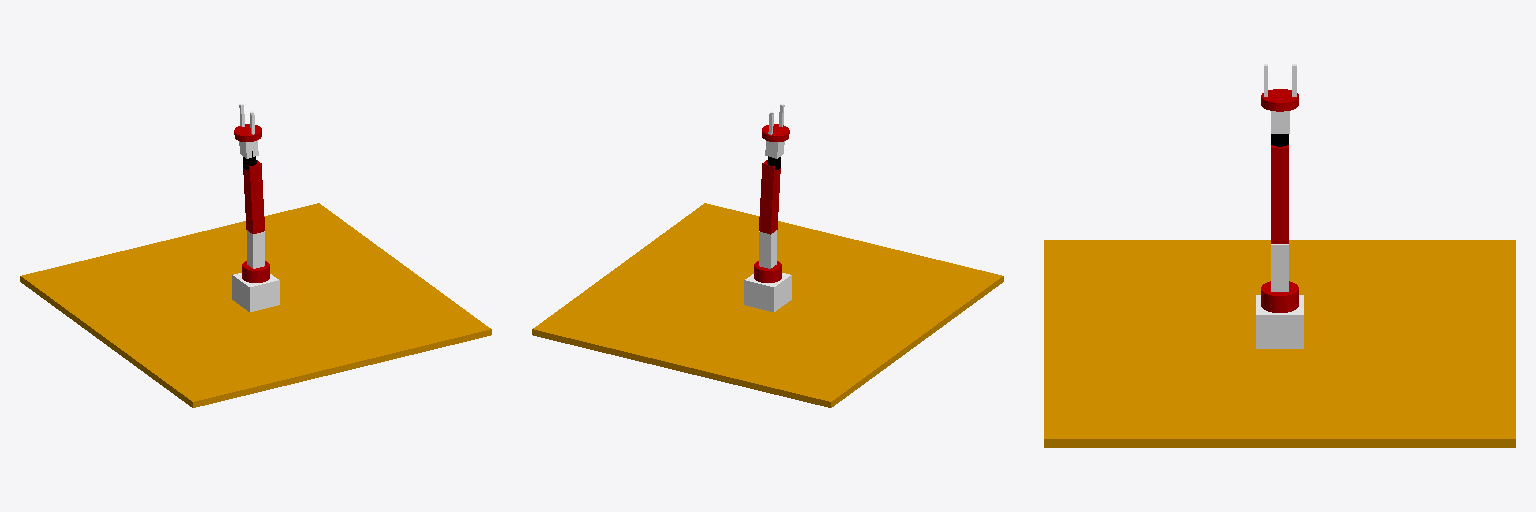
The robot description file, URDF, robot "dodo_arm":
<?xml version="1.0" encoding="utf-8"?>
<!-- =================================================================================== -->
<!-- |    This document was autogenerated by xacro from dodo_arm.xacro                 | -->
<!-- |    EDITING THIS FILE BY HAND IS NOT RECOMMENDED                                 | -->
<!-- =================================================================================== -->
<robot name="dodo_arm">
  <!-- Include materials -->
  <material name="Black">
    <color rgba="0.0 0.0 0.0 1.0"/>
  </material>
  <material name="Red">
    <color rgba="0.8 0.0 0.0 1.0"/>
  </material>
  <material name="White">
    <color rgba="1.0 1.0 1.0 1.0"/>
  </material>
  <!-- BOTTOM FIXED LINK 
This link is the base of the arm in which arm is placed 

-->
  <!-- ///////////////////////////////////////////////////////////////////////////////////////////////////////////////////// -->
  <joint name="bottom_joint" type="fixed">
    <origin rpy="0 0 0" xyz="0 0 0"/>
    <parent link="base_link"/>
    <child link="bottom_link"/>
  </joint>
  <link name="bottom_link">
    <visual>
      <origin rpy="0 0 0" xyz=" 0 0 -0.04"/>
      <geometry>
        <box size="1 1 0.02"/>
      </geometry>
      <material name="Brown"/>
    </visual>
    <collision>
      <origin rpy="0 0 0" xyz=" 0 0 -0.04"/>
      <geometry>
        <box size="1 1 0.02"/>
      </geometry>
    </collision>
    &gt;

  
  </link>
  <gazebo reference="bottom_link">
    <material>Gazebo/White</material>
  </gazebo>
  <!-- ///////////////////////////////////////////////////////////////////////////////////////////////////////////////////// -->
  <!-- BASE LINK -->
  <link name="base_link">
    <visual>
      <origin rpy="1.570795 0 0" xyz="0 0 0"/>
      <!-- rotate PI/2 -->
      <geometry>
        <box size="0.1 0.1 0.1"/>
      </geometry>
      <material name="White"/>
    </visual>
    <collision>
      <origin rpy="1.570795 0 0" xyz="0 0 0"/>
      <!-- rotate PI/2 -->
      <geometry>
        <box size="0.1 0.1 0.1"/>
      </geometry>
    </collision>
    &gt;
	
    <inertial>
      <mass value="1"/>
      <inertia ixx="1.0" ixy="0.0" ixz="0.0" iyy="0.5" iyz="0.0" izz="1.0"/>
    </inertial>
  </link>
  <gazebo reference="base_link">
    <material>Gazebo/White</material>
  </gazebo>
  <joint name="shoulder_pan_joint" type="revolute">
    <parent link="base_link"/>
    <child link="shoulder_pan_link"/>
    <origin rpy="0 1.570795 0.0" xyz="0 0 0.05"/>
    <axis xyz="-1 0 0"/>
    <limit effort="300" lower="-2.61799387799" upper="1.98394848567" velocity="1"/>
    <dynamics damping="50" friction="1"/>
  </joint>
  <!-- ///////////////////////////////////////////////////////////////////////////////////////////////////////////////////// -->
  <!-- SHOULDER PAN LINK -->
  <link name="shoulder_pan_link">
    <visual>
      <origin rpy="0 1.570795 0" xyz="0 0 0"/>
      <geometry>
        <cylinder length="0.08" radius="0.04"/>
      </geometry>
      <material name="Red"/>
    </visual>
    <collision>
      <origin rpy="0 1.570795 0" xyz="0 0 0"/>
      <geometry>
        <cylinder length="0.08" radius="0.04"/>
      </geometry>
    </collision>
    <inertial>
      <mass value="1"/>
      <inertia ixx="1.0" ixy="0.0" ixz="0.0" iyy="0.5" iyz="0.0" izz="1.0"/>
    </inertial>
  </link>
  <gazebo reference="shoulder_pan_link">
    <material>Gazebo/Red</material>
  </gazebo>
  <joint name="shoulder_pitch_joint" type="revolute">
    <parent link="shoulder_pan_link"/>
    <child link="shoulder_pitch_link"/>
    <origin rpy="-1.570795 0 1.570795" xyz="-0.041 0.0021 0.0"/>
    <axis xyz="1 0 0"/>
    <limit effort="300" lower="-1.19962513147" upper="1.89994105047" velocity="1"/>
    <dynamics damping="50" friction="1"/>
  </joint>
  <!-- ///////////////////////////////////////////////////////////////////////////////////////////////////////////////////// -->
  <!-- SHOULDER PITCH LINK -->
  <link name="shoulder_pitch_link">
    <visual>
      <origin rpy="0 1.570795 0" xyz="-0.002 0 0.04"/>
      <geometry>
        <box size="0.14 0.04 0.04"/>
      </geometry>
      <material name="White"/>
    </visual>
    <collision>
      <origin rpy="0 1.570795 0" xyz="-0.002 0 0.04"/>
      <geometry>
        <box size="0.14 0.04 0.04"/>
      </geometry>
    </collision>
    <inertial>
      <mass value="1"/>
      <inertia ixx="1.0" ixy="0.0" ixz="0.0" iyy="0.5" iyz="0.0" izz="1.0"/>
    </inertial>
  </link>
  <gazebo reference="shoulder_pitch_link">
    <material>Gazebo/White</material>
  </gazebo>
  <joint name="elbow_pitch_joint" type="revolute">
    <parent link="shoulder_pitch_link"/>
    <child link="elbow_pitch_link"/>
    <origin rpy="0.055 3.14159 0" xyz="-0.002 0 0.10"/>
    <axis xyz="1 0 0"/>
    <limit effort="300" lower="-1.5953400194" upper="1.93281579274" velocity="1"/>
    <dynamics damping="50" friction="1"/>
  </joint>
  <!-- ///////////////////////////////////////////////////////////////////////////////////////////////////////////////////// -->
  <!-- ELBOW PITCH LINK -->
  <link name="elbow_pitch_link">
    <visual>
      <origin rpy="0 1.570795 0" xyz="0 0 -0.12"/>
      <geometry>
        <box size="0.22 0.04 0.04"/>
      </geometry>
      <material name="Red"/>
    </visual>
    <collision>
      <origin rpy="0 1.570795 0" xyz="0 0 -0.12"/>
      <geometry>
        <box size="0.22 0.04 0.04"/>
      </geometry>
    </collision>
    <inertial>
      <mass value="1"/>
      <inertia ixx="1.0" ixy="0.0" ixz="0.0" iyy="0.5" iyz="0.0" izz="1.0"/>
    </inertial>
  </link>
  <gazebo reference="elbow_pitch_link">
    <material>Gazebo/Red</material>
  </gazebo>
  <joint name="wrist_roll_joint" type="revolute">
    <parent link="elbow_pitch_link"/>
    <child link="wrist_roll_link"/>
    <origin rpy="0 1.570795 3.14159" xyz="0.0 0.0081 -.248"/>
    <axis xyz="1 0 0"/>
    <limit effort="300" lower="-2.61799387799" upper="2.6128806087" velocity="1"/>
    <dynamics damping="50" friction="1"/>
  </joint>
  <!-- WRIST ROLL LINK -->
  <link name="wrist_roll_link">
    <visual>
      <origin rpy="0 1.570795 0" xyz="0 0 0"/>
      <geometry>
        <cylinder length="0.06" radius="0.02"/>
      </geometry>
      <material name="Black"/>
    </visual>
    <collision>
      <origin rpy="0 1.570795 0" xyz="0 0 0"/>
      <geometry>
        <cylinder length="0.06" radius="0.02"/>
      </geometry>
    </collision>
    <inertial>
      <mass value="1"/>
      <inertia ixx="1.0" ixy="0.0" ixz="0.0" iyy="0.5" iyz="0.0" izz="1.0"/>
    </inertial>
  </link>
  <gazebo reference="wrist_roll_link">
    <material>Gazebo/Black</material>
  </gazebo>
  <joint name="wrist_pitch_joint" type="revolute">
    <parent link="wrist_roll_link"/>
    <child link="wrist_pitch_link"/>
    <origin rpy="0 1.570795 0" xyz="0.0 0.0 0.0001"/>
    <axis xyz="1 0 0"/>
    <limit effort="300" lower="-1.5953400194" upper="1.98394848567" velocity="1"/>
    <dynamics damping="50" friction="1"/>
  </joint>
  <!-- ///////////////////////////////////////////////////////////////////////////////////////////////////////////////////// -->
  <!-- WRIST PITCH LINK -->
  <link name="wrist_pitch_link">
    <visual>
      <origin rpy="0 1.570795 0" xyz="0 0 0.04"/>
      <geometry>
        <box size="0.06 0.04 0.04"/>
      </geometry>
      <material name="White"/>
    </visual>
    <collision>
      <origin rpy="0 1.570795 0" xyz="0 0 0.04 "/>
      <geometry>
        <box size="0.06 0.04 0.04"/>
      </geometry>
    </collision>
    <inertial>
      <mass value="1"/>
      <inertia ixx="1.0" ixy="0.0" ixz="0.0" iyy="0.5" iyz="0.0" izz="1.0"/>
    </inertial>
  </link>
  <gazebo reference="wrist_pitch_link">
    <material>Gazebo/White</material>
  </gazebo>
  <joint name="gripper_roll_joint" type="revolute">
    <parent link="wrist_pitch_link"/>
    <child link="gripper_roll_link"/>
    <origin rpy="4.712385 -1.570795 0" xyz="0 0 0.080"/>
    <axis xyz="1 0 0"/>
    <!--
		<limit effort="300" velocity="1" lower="-2.61799387799" upper="2.6128806087" />
		-->
    <limit effort="300" lower="-3.14" upper="3.14" velocity="1"/>
    <dynamics damping="50" friction="1"/>
  </joint>
  <!-- ///////////////////////////////////////////////////////////////////////////////////////////////////////////////////// -->
  <!-- GRIPPER ROLL LINK -->
  <link name="gripper_roll_link">
    <visual>
      <origin rpy="0 1.570795 0" xyz="0 0 0"/>
      <geometry>
        <cylinder length="0.02" radius="0.04"/>
      </geometry>
      <material name="Red"/>
    </visual>
    <collision>
      <origin rpy="0 1.570795 0" xyz="0 0 0"/>
      <geometry>
        <cylinder length="0.02" radius="0.04"/>
      </geometry>
    </collision>
    <inertial>
      <mass value="1"/>
      <inertia ixx="1.0" ixy="0.0" ixz="0.0" iyy="0.5" iyz="0.0" izz="1.0"/>
    </inertial>
  </link>
  <gazebo reference="gripper_roll_link">
    <material>Gazebo/Red</material>
  </gazebo>
  <joint name="finger_joint1" type="prismatic">
    <parent link="gripper_roll_link"/>
    <child link="gripper_finger_link1"/>
    <origin xyz="0.0 0 0"/>
    <axis xyz="0 1 0"/>
    <limit effort="1" lower="0.03" upper="0" velocity="1.0"/>
    <safety_controller k_position="20" k_velocity="20" soft_lower_limit="-0.15" soft_upper_limit="0.0"/>
    <dynamics damping="50" friction="1"/>
  </joint>
  <!-- ///////////////////////////////////////////////////////////////////////////////////////////////////////////////////// -->
  <!-- LEFT GRIPPER AFT LINK -->
  <link name="gripper_finger_link1">
    <visual>
      <origin xyz="0.04 -0.03 0"/>
      <geometry>
        <box size="0.08 0.01 0.01"/>
      </geometry>
      <material name="White"/>
    </visual>
    <inertial>
      <mass value="1"/>
      <inertia ixx="1.0" ixy="0.0" ixz="0.0" iyy="0.5" iyz="0.0" izz="1.0"/>
    </inertial>
  </link>
  <gazebo reference="l_gripper_aft_link">
    <material>Gazebo/White</material>
  </gazebo>
  <!-- Joint between Wrist roll and finger 2 -->
  <joint name="finger_joint2" type="prismatic">
    <parent link="gripper_roll_link"/>
    <child link="gripper_finger_link2"/>
    <origin xyz="0.0 0 0"/>
    <axis xyz="0 1 0"/>
    <limit effort="1" lower="-0.03" upper="0" velocity="1.0"/>
    <!-- <mimic joint="finger_joint1" multiplier="-1.0" offset="0.0" /> -->
    <safety_controller k_position="20" k_velocity="20" soft_lower_limit="-0.15" soft_upper_limit="0.0"/>
    <dynamics damping="50" friction="1"/>
  </joint>
  <!-- ///////////////////////////////////////////////////////////////////////////////////////////////////////////////////// -->
  <!-- RIGHT GRIPPER AFT LINK -->
  <link name="gripper_finger_link2">
    <visual>
      <origin xyz="0.04 0.03 0"/>
      <geometry>
        <box size="0.08 0.01 0.01"/>
      </geometry>
      <material name="White"/>
    </visual>
    <inertial>
      <mass value="1"/>
      <inertia ixx="1.0" ixy="0.0" ixz="0.0" iyy="0.5" iyz="0.0" izz="1.0"/>
    </inertial>
  </link>
  <gazebo reference="r_gripper_aft_link">
    <material>Gazebo/White</material>
  </gazebo>
  <!-- Grasping frame -->
  <link name="grasping_frame">
    <inertial>
      <origin rpy="0 0 0" xyz="0 0 0"/>
      <mass value="0.0001"/>
      <cuboid_inertia mass="0.0001" x="0.001" y="0.001" z="0.001"/>
      <inertia ixx="1.0" ixy="0.0" ixz="0.0" iyy="100.0" iyz="0.0" izz="1.0"/>
    </inertial>
    <!-- <visual>
      <origin xyz="0 0 0"/>
      <geometry>
					
          <box size="${grasp_frame_len} ${grasp_frame_width} ${grasp_frame_height}" />
					
      </geometry>
      <material name="White" />
    </visual> -->
  </link>
  <joint name="grasping_frame_joint" type="fixed">
    <parent link="gripper_roll_link"/>
    <child link="grasping_frame"/>
    <origin rpy="0 0 0" xyz="0.08 0 0"/>
  </joint>
  <!-- ////////////////////////////////////////////////////////////////////////////////////////////////////////////////////// -->
  <!-- Depth Camera -->
  <!-- <xacro:include filename="$(find dodo_arm_pkg)/urdf/_d435.xacro"/> -->
  <!-- ///////////////////////////////////////////////////////////////////////////////////////////////////////////////////// -->
  <!-- Transmissions for ROS Control -->
  <transmission name="tran1">
    <type>transmission_interface/SimpleTransmission</type>
    <joint name="shoulder_pan_joint">
      <hardwareInterface>hardware_interface/PositionJointInterface</hardwareInterface>
    </joint>
    <actuator name="motor1">
      <hardwareInterface>hardware_interface/PositionJointInterface</hardwareInterface>
      <mechanicalReduction>1</mechanicalReduction>
    </actuator>
  </transmission>
  <transmission name="tran1">
    <type>transmission_interface/SimpleTransmission</type>
    <joint name="shoulder_pitch_joint">
      <hardwareInterface>hardware_interface/PositionJointInterface</hardwareInterface>
    </joint>
    <actuator name="motor1">
      <hardwareInterface>hardware_interface/PositionJointInterface</hardwareInterface>
      <mechanicalReduction>1</mechanicalReduction>
    </actuator>
  </transmission>
  <transmission name="tran1">
    <type>transmission_interface/SimpleTransmission</type>
    <joint name="elbow_pitch_joint">
      <hardwareInterface>hardware_interface/PositionJointInterface</hardwareInterface>
    </joint>
    <actuator name="motor1">
      <hardwareInterface>hardware_interface/PositionJointInterface</hardwareInterface>
      <mechanicalReduction>1</mechanicalReduction>
    </actuator>
  </transmission>
  <transmission name="tran1">
    <type>transmission_interface/SimpleTransmission</type>
    <joint name="wrist_roll_joint">
      <hardwareInterface>hardware_interface/PositionJointInterface</hardwareInterface>
    </joint>
    <actuator name="motor1">
      <hardwareInterface>hardware_interface/PositionJointInterface</hardwareInterface>
      <mechanicalReduction>1</mechanicalReduction>
    </actuator>
  </transmission>
  <transmission name="tran1">
    <type>transmission_interface/SimpleTransmission</type>
    <joint name="wrist_pitch_joint">
      <hardwareInterface>hardware_interface/PositionJointInterface</hardwareInterface>
    </joint>
    <actuator name="motor1">
      <hardwareInterface>hardware_interface/PositionJointInterface</hardwareInterface>
      <mechanicalReduction>1</mechanicalReduction>
    </actuator>
  </transmission>
  <transmission name="tran1">
    <type>transmission_interface/SimpleTransmission</type>
    <joint name="gripper_roll_joint">
      <hardwareInterface>hardware_interface/PositionJointInterface</hardwareInterface>
    </joint>
    <actuator name="motor1">
      <hardwareInterface>hardware_interface/PositionJointInterface</hardwareInterface>
      <mechanicalReduction>1</mechanicalReduction>
    </actuator>
  </transmission>
  <transmission name="tran1">
    <type>transmission_interface/SimpleTransmission</type>
    <joint name="finger_joint1">
      <hardwareInterface>hardware_interface/PositionJointInterface</hardwareInterface>
    </joint>
    <actuator name="motor1">
      <hardwareInterface>hardware_interface/PositionJointInterface</hardwareInterface>
      <mechanicalReduction>1</mechanicalReduction>
    </actuator>
  </transmission>
  <transmission name="tran1">
    <type>transmission_interface/SimpleTransmission</type>
    <joint name="finger_joint2">
      <hardwareInterface>hardware_interface/PositionJointInterface</hardwareInterface>
    </joint>
    <actuator name="motor1">
      <hardwareInterface>hardware_interface/PositionJointInterface</hardwareInterface>
      <mechanicalReduction>1</mechanicalReduction>
    </actuator>
  </transmission>
  <!-- ros_control plugin -->
  <gazebo>
    <plugin filename="libgazebo_ros_control.so" name="gazebo_ros_control">
      <robotNamespace>/dodo_arm</robotNamespace>
    </plugin>
  </gazebo>
</robot>

--- Facts derived from the render (not from the file) ---
Views: 3 orthographic renders of the robot side by side, from view 1: azimuth 30°, elevation 25°; view 2: azimuth 150°, elevation 25°; view 3: azimuth 270°, elevation 25°.
Robot: dodo_arm — 11 links, 10 joints (6 revolute, 2 prismatic, 2 fixed); root link base_link; default pose: all joints at 0.
Links seen in each view (by area): view 1: bottom_link, base_link, elbow_pitch_link, shoulder_pitch_link; view 2: bottom_link, base_link, elbow_pitch_link, shoulder_pitch_link; view 3: bottom_link, base_link, elbow_pitch_link, shoulder_pan_link, shoulder_pitch_link, gripper_roll_link.
Link boxes in pixels (box(x1,y1,x2,y2)): bottom_link: box(20, 203, 491, 407); base_link: box(232, 273, 279, 311); elbow_pitch_link: box(243, 160, 264, 233); shoulder_pitch_link: box(247, 230, 264, 268); bottom_link: box(532, 203, 1003, 407); base_link: box(744, 273, 791, 311); elbow_pitch_link: box(759, 160, 780, 234); shoulder_pitch_link: box(759, 230, 776, 268); bottom_link: box(1044, 240, 1515, 447); base_link: box(1256, 295, 1303, 348); elbow_pitch_link: box(1271, 145, 1288, 243); shoulder_pan_link: box(1261, 281, 1298, 312); shoulder_pitch_link: box(1271, 244, 1288, 291); gripper_roll_link: box(1261, 89, 1298, 111).
Size in the robot's own frame: 1 by 1 by 0.6482 metres.
Geometry: primitives only (box / cylinder / sphere), no mesh files.